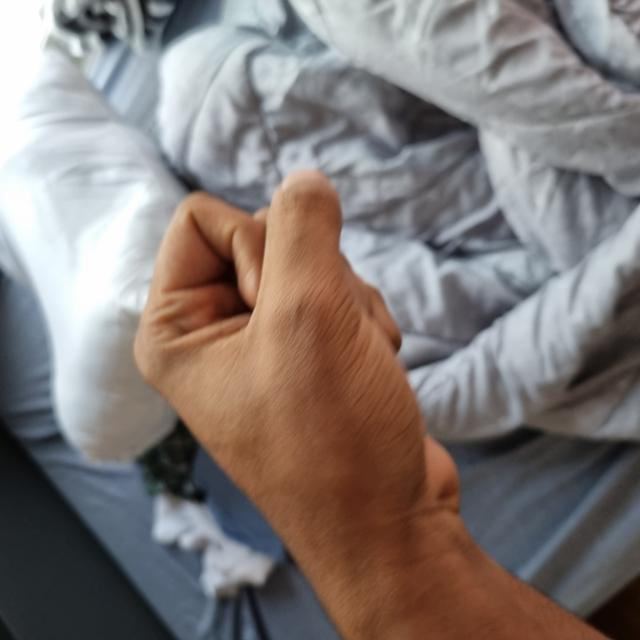Rock: (53, 139, 464, 440)
